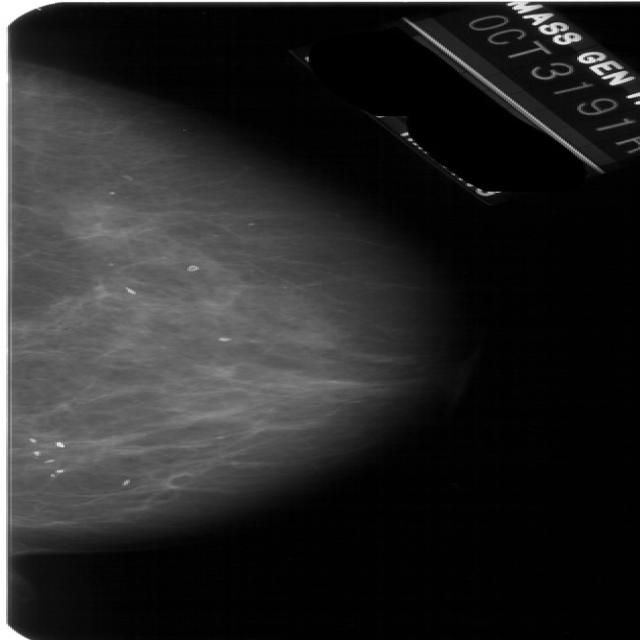tumour: (280, 328, 332, 349)
